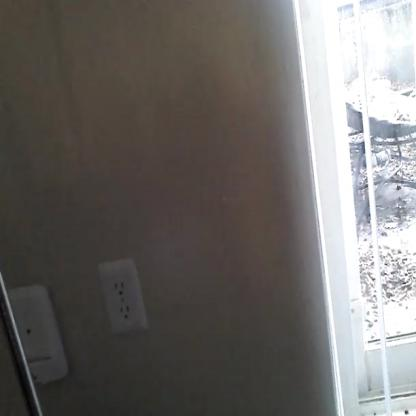OUTLET: (101, 259, 144, 338)
